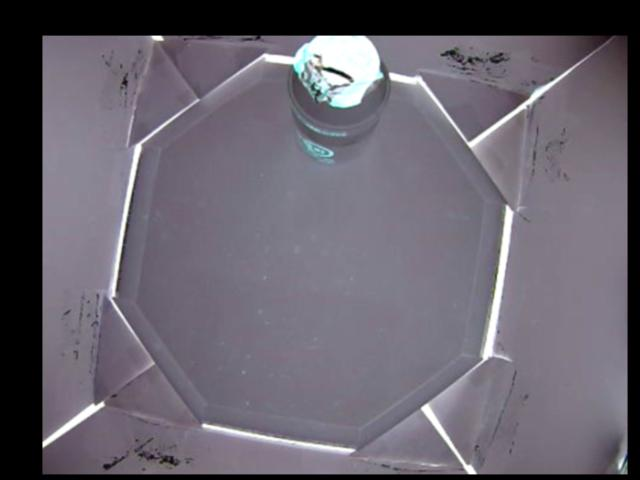Bottle: (286, 36, 393, 169)
